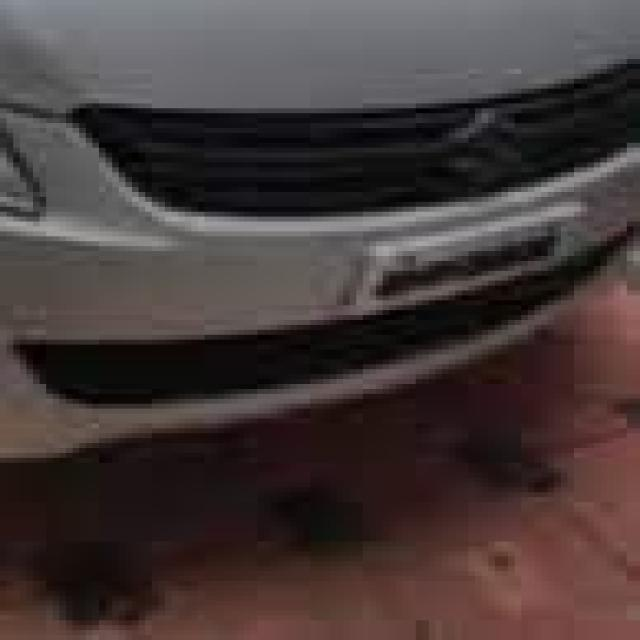car: (0, 0, 633, 467)
